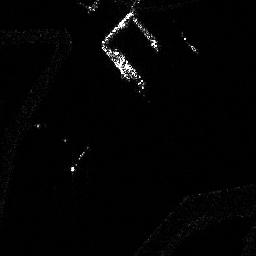ship: (111, 48, 145, 89)
